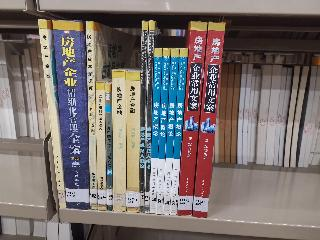book-spine: (52, 18, 92, 210), (189, 21, 227, 218), (176, 21, 208, 217), (37, 18, 67, 209), (169, 49, 188, 215), (162, 49, 179, 215), (84, 20, 98, 211), (155, 48, 171, 214), (143, 21, 156, 214), (124, 73, 140, 212), (149, 48, 162, 214), (112, 70, 126, 210), (94, 82, 108, 210), (102, 83, 113, 212), (140, 21, 147, 213)
